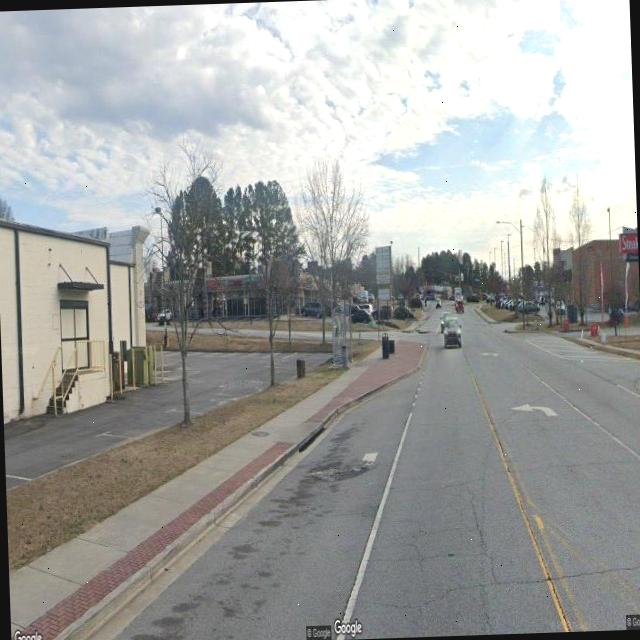shelter: (329, 308, 351, 368)
trash_can: (381, 333, 389, 358), (342, 344, 349, 368)
